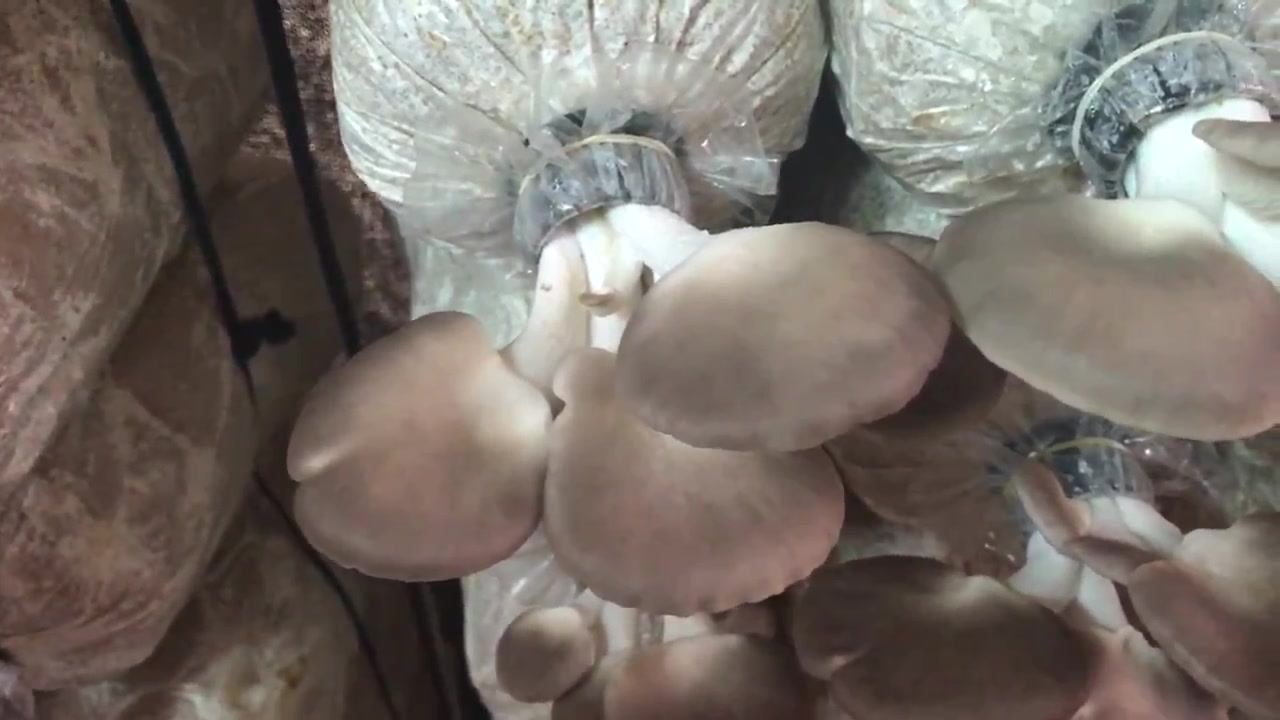nam: (292, 139, 948, 616), (795, 425, 1280, 719), (939, 31, 1280, 444), (499, 588, 816, 720)
